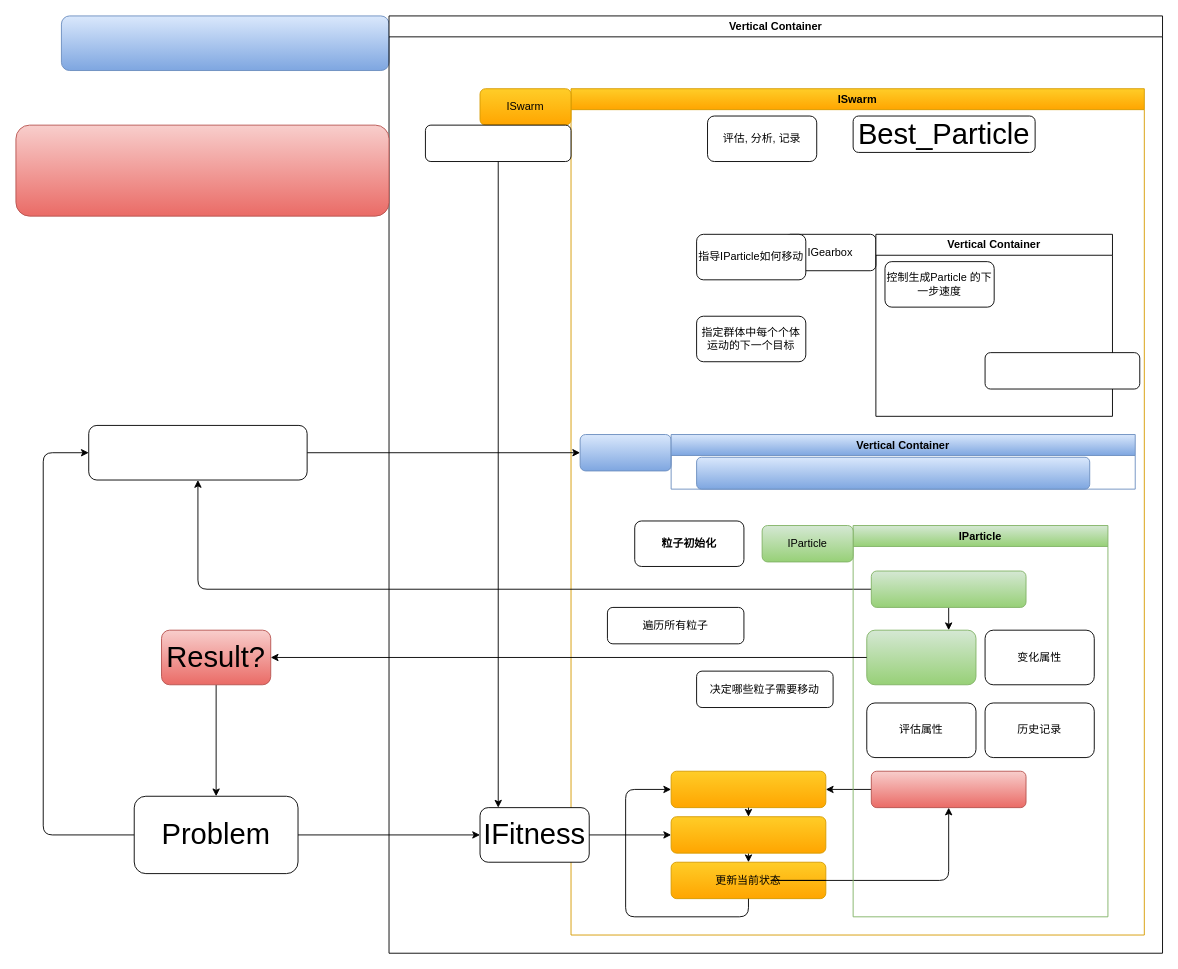
This 1178x969 diagram has some shape labels left out. Here are the shapes that lost their labels. From the top down, the centre of each, then its label:
the point at 225,43: ParticlaSwarmOptimization
the point at 498,143: SingleObjectiveSwarm
the point at 202,170: MultipleObjectiveSwarm
the point at 1062,370: 根据目标位置计算速度
the point at 197,452: Search Space
the point at 625,452: ITopology
the point at 893,472: plugin
the point at 948,588: 边界检查
the point at 921,657: 位置属性
the point at 748,789: 移动
the point at 948,789: 个体最佳 + 全局最佳 + 现在
the point at 748,834: 评估
